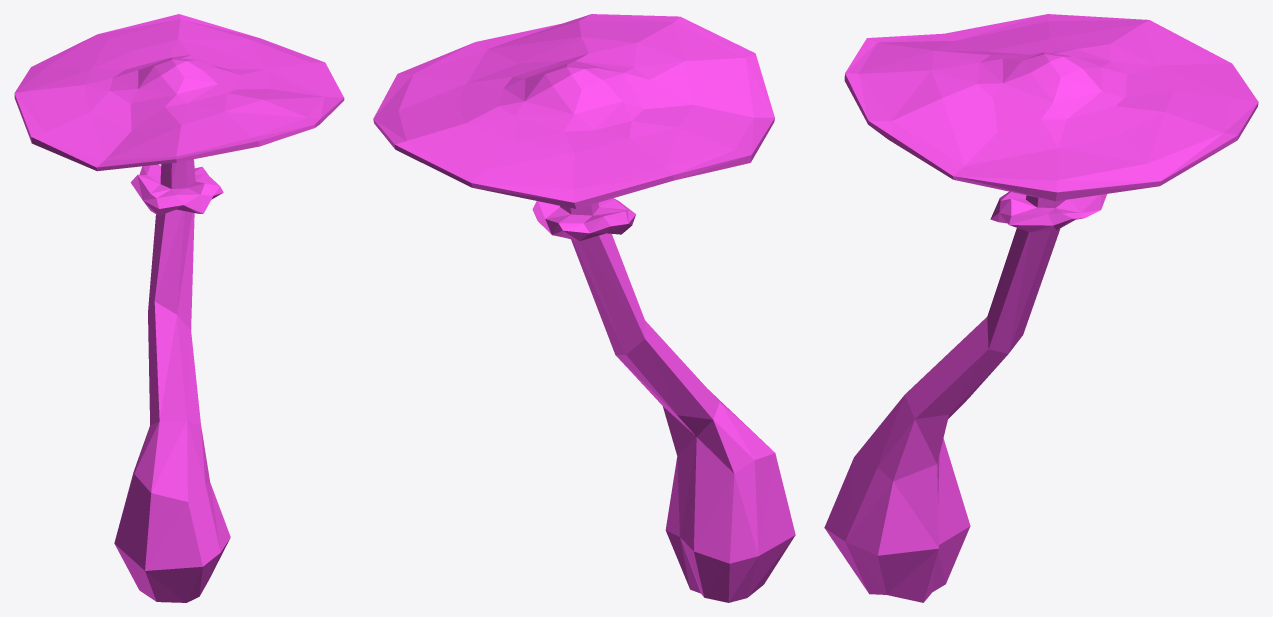
The model's file is SM_Mushroom_Slim_Medium_D_Fantasy.fbx.
3 views of the same model, side by side, from view 1: azimuth 30°, elevation 25°; view 2: azimuth 150°, elevation 25°; view 3: azimuth 270°, elevation 25° (orthographic). The views are drawn at different scales.
Parts seen in each view (by area): view 1: SM_Mushroom_Slim_Medium_D_Fantasy; view 2: SM_Mushroom_Slim_Medium_D_Fantasy; view 3: SM_Mushroom_Slim_Medium_D_Fantasy.
Part boxes in pixels (left/top/right/bottom): SM_Mushroom_Slim_Medium_D_Fantasy: left=14, top=14, right=344, bottom=602; SM_Mushroom_Slim_Medium_D_Fantasy: left=373, top=14, right=795, bottom=602; SM_Mushroom_Slim_Medium_D_Fantasy: left=824, top=14, right=1258, bottom=602.
Size of the model in its own units: 1.11 by 1.67 by 1.14.
